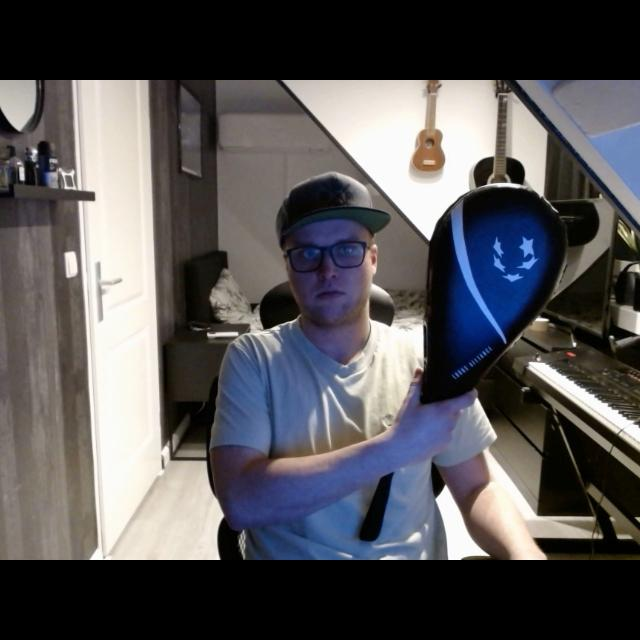paddle: (423, 181, 567, 400)
